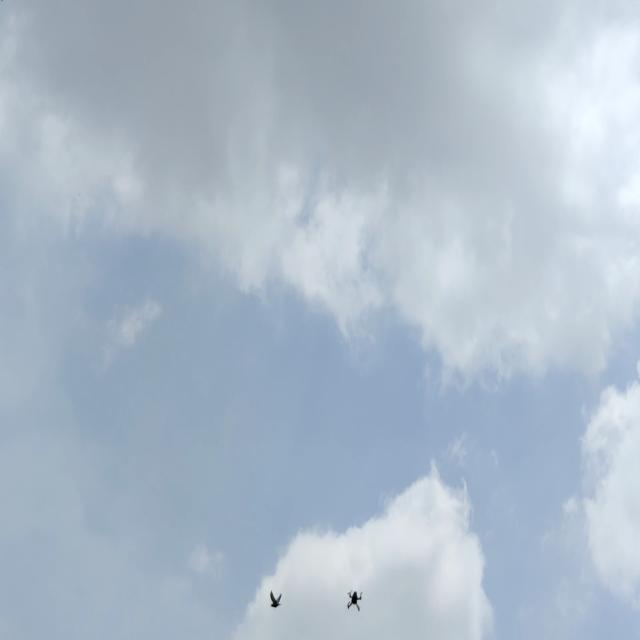drone: (340, 584, 370, 614)
